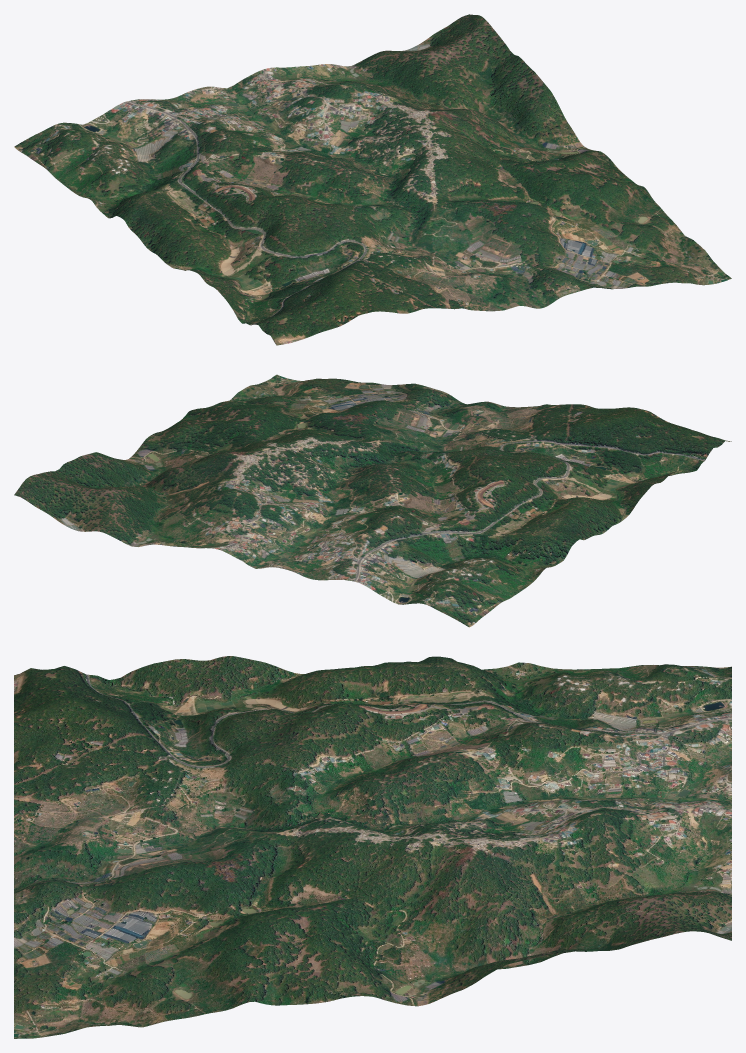
Rendered from terrain_real_T_E01_S01.glb.
3 views of the same model, one above another, from view 1: azimuth 30°, elevation 25°; view 2: azimuth 150°, elevation 25°; view 3: azimuth 270°, elevation 25° (orthographic). The views are drawn at different scales.
Visible parts, largest first — view 1: TerrainReal_T_E01_S01; view 2: TerrainReal_T_E01_S01; view 3: TerrainReal_T_E01_S01.
Boxes of the visible parts, <box> form: TerrainReal_T_E01_S01: <box>14,14,731,345</box>; TerrainReal_T_E01_S01: <box>14,374,731,627</box>; TerrainReal_T_E01_S01: <box>14,656,731,1038</box>.
Size of the model in its own units: 2000 by 339 by 2000.
1 material, 1 textured.
